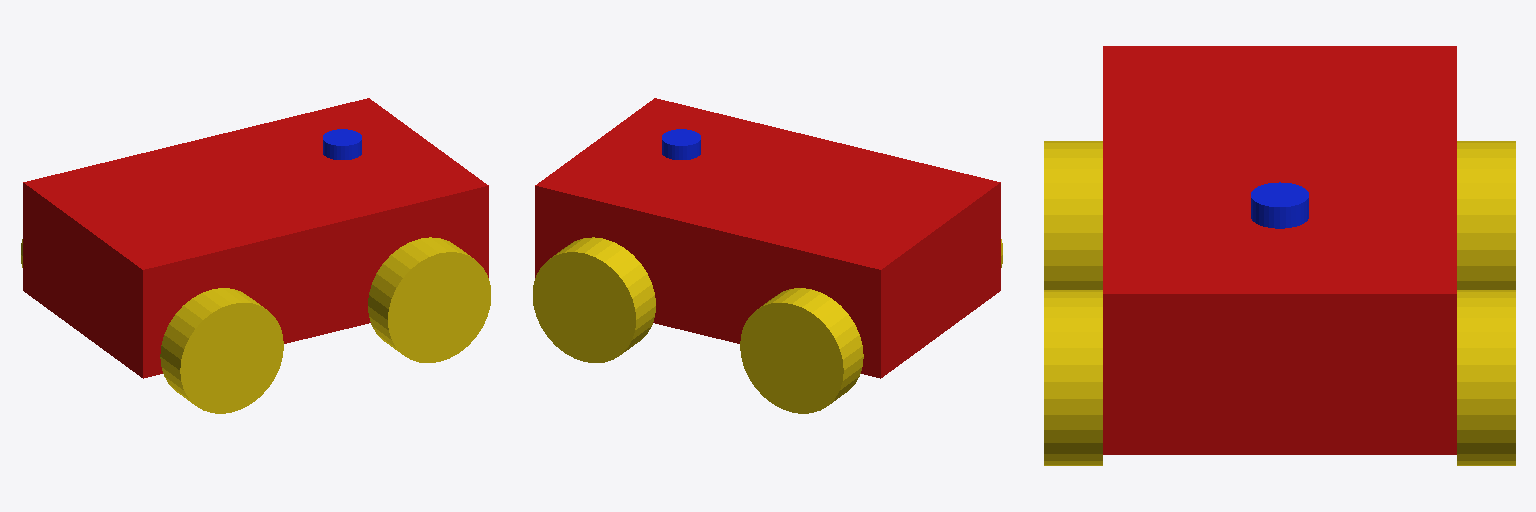
URDF robot description (ch07_four_wheel_robot):
<?xml version="1.0"?>
<robot name="ch07_four_wheel_robot">
  <material name="red"><color rgba="0.8 0.1 0.1 1"/></material>
  <material name="yellow"><color rgba="0.9 0.8 0.1 1"/></material>
  <material name="blue"><color rgba="0.1 0.2 0.9 1"/></material>
  <link name="base_footprint"/>
  <joint name="base_joint" type="fixed">
    <parent link="base_footprint"/><child link="body_link"/>
    <origin xyz="0 0 0.25"/>
  </joint>
  <link name="body_link">
    <visual><geometry><box size="1 0.6 0.3"/></geometry><material name="red"/></visual>
    <collision><geometry><box size="1 0.6 0.3"/></geometry></collision>
    <inertial><mass value="10"/><inertia ixx="0.375" ixy="0" ixz="0" iyy="0.908" iyz="0" izz="1.133"/></inertial>
  </link>
  <joint name="wheel1_joint" type="continuous"><parent link="body_link"/><child link="wheel1_link"/><origin xyz="0.3 0.35 -0.1"/><axis xyz="0 1 0"/></joint>
  <link name="wheel1_link"><visual><origin rpy="1.5708 0 0"/><geometry><cylinder radius="0.15" length="0.1"/></geometry><material name="yellow"/></visual></link>
  <joint name="wheel2_joint" type="continuous"><parent link="body_link"/><child link="wheel2_link"/><origin xyz="0.3 -0.35 -0.1"/><axis xyz="0 1 0"/></joint>
  <link name="wheel2_link"><visual><origin rpy="1.5708 0 0"/><geometry><cylinder radius="0.15" length="0.1"/></geometry><material name="yellow"/></visual></link>
  <joint name="wheel3_joint" type="continuous"><parent link="body_link"/><child link="wheel3_link"/><origin xyz="-0.3 0.35 -0.1"/><axis xyz="0 1 0"/></joint>
  <link name="wheel3_link"><visual><origin rpy="1.5708 0 0"/><geometry><cylinder radius="0.15" length="0.1"/></geometry><material name="yellow"/></visual></link>
  <joint name="wheel4_joint" type="continuous"><parent link="body_link"/><child link="wheel4_link"/><origin xyz="-0.3 -0.35 -0.1"/><axis xyz="0 1 0"/></joint>
  <link name="wheel4_link"><visual><origin rpy="1.5708 0 0"/><geometry><cylinder radius="0.15" length="0.1"/></geometry><material name="yellow"/></visual></link>
  <joint name="laser_joint" type="fixed"><parent link="body_link"/><child link="laser_link"/><origin xyz="0.25 0 0.2"/></joint>
  <link name="laser_link"><visual><geometry><cylinder radius="0.05" length="0.04"/></geometry><material name="blue"/></visual></link>
</robot>

--- What the picture shows (computed from the rendered views, not written in the file) ---
3 views of the same robot in one strip: view 1: azimuth 30°, elevation 25°; view 2: azimuth 150°, elevation 25°; view 3: azimuth 270°, elevation 25° (orthographic).
Robot: ch07_four_wheel_robot — 7 links, 6 joints (4 continuous, 2 fixed); root link base_footprint; default pose: every joint at zero.
Visible links, largest first — view 1: body_link, wheel4_link, wheel2_link, laser_link; view 2: body_link, wheel3_link, wheel1_link, laser_link; view 3: body_link, wheel1_link, wheel2_link, wheel3_link, wheel4_link, laser_link.
Link boxes in pixels (x1,y1,x2,y2): body_link: (23,98,488,378); wheel4_link: (160,288,283,413); wheel2_link: (368,237,490,362); laser_link: (323,129,361,159); body_link: (535,98,1000,378); wheel3_link: (740,288,863,413); wheel1_link: (533,237,655,362); laser_link: (662,129,700,159); body_link: (1103,46,1456,454); wheel1_link: (1457,290,1515,465); wheel2_link: (1044,290,1102,465); wheel3_link: (1457,141,1515,289); wheel4_link: (1044,141,1102,289); laser_link: (1251,182,1308,228).
Size in the robot's own frame: 1 by 0.8 by 0.47 metres.
Geometry: primitives only (box / cylinder / sphere), no mesh files.
